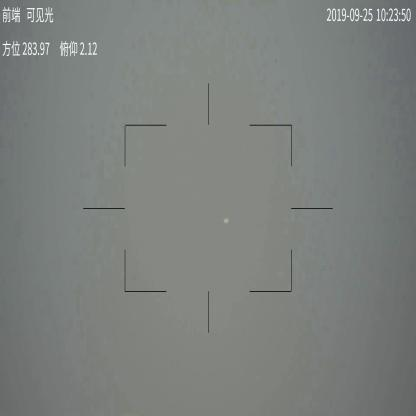uav: (223, 216, 230, 223)
